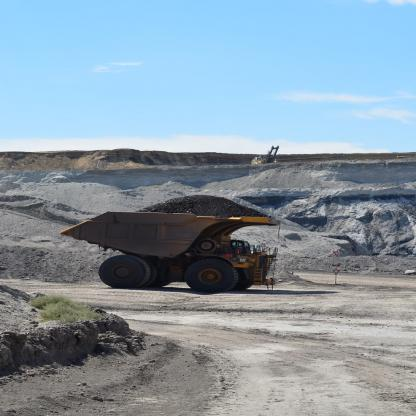dump_truck: (68, 192, 292, 296)
